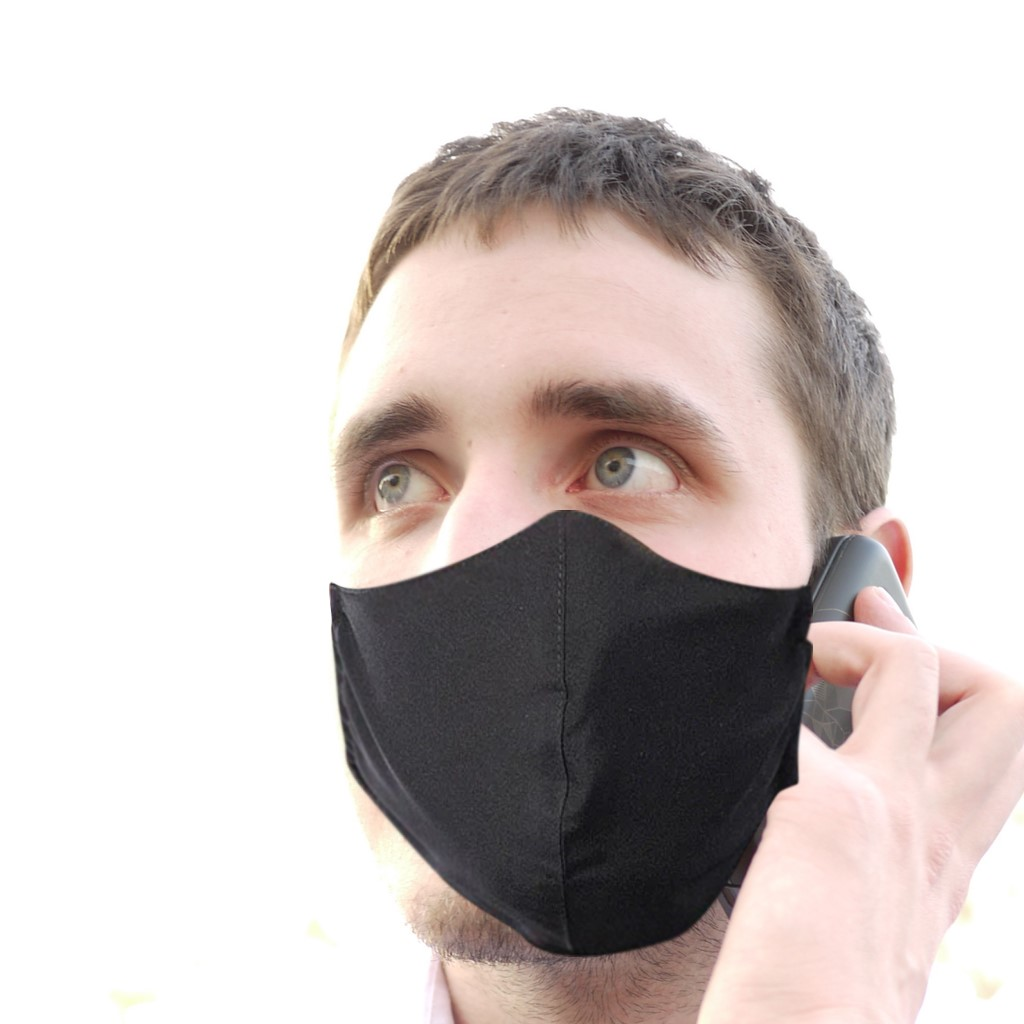con_mascara: (299, 118, 892, 987)
